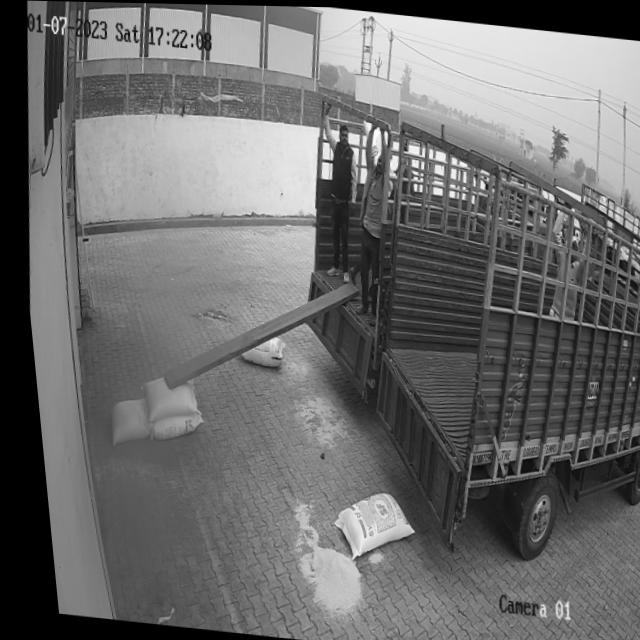sack: (318, 485, 409, 562), (129, 373, 191, 423), (96, 394, 144, 444), (140, 408, 195, 443), (231, 332, 281, 368)
